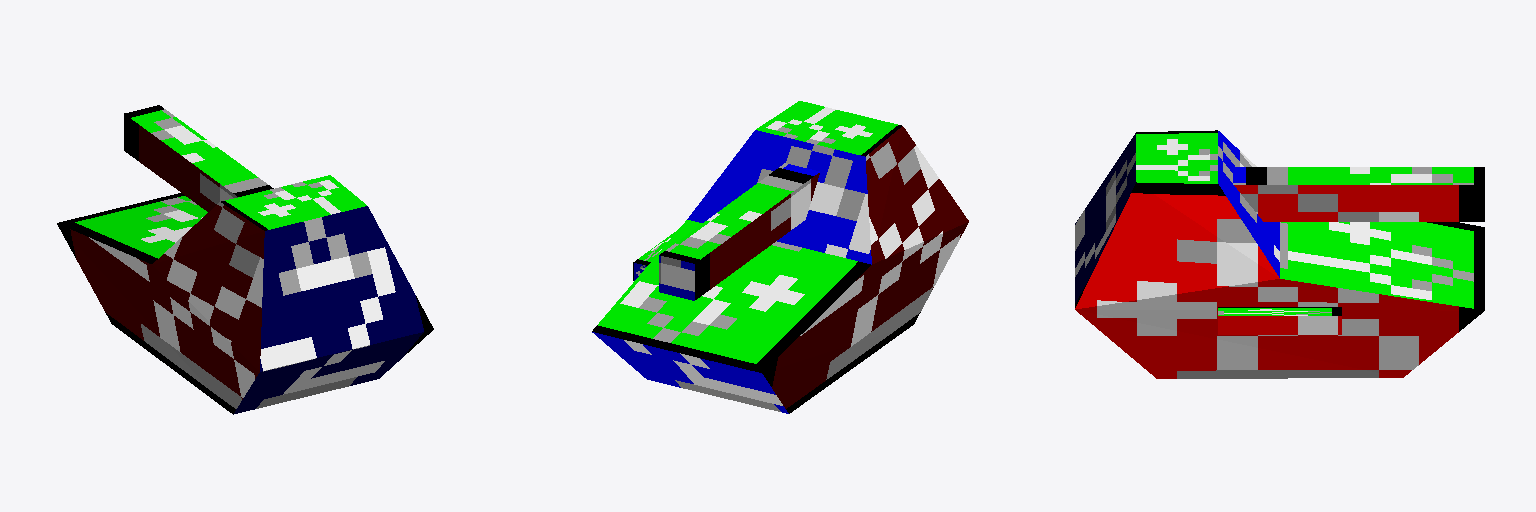
3 renders of one model, left to right at view 1: azimuth 30°, elevation 25°; view 2: azimuth 150°, elevation 25°; view 3: azimuth 270°, elevation 25°, orthographic.
Parts seen in each view (by area): view 1: heavytank5; view 2: heavytank5; view 3: heavytank5.
Boxes of the visible parts, x1,y1,x2,y2 form: heavytank5: [57, 105, 433, 414]; heavytank5: [592, 101, 968, 413]; heavytank5: [1075, 130, 1484, 378].
Bounding box in the file's own units: 1.17 × 1 × 2.
Materials: 1 (1 with a texture image).